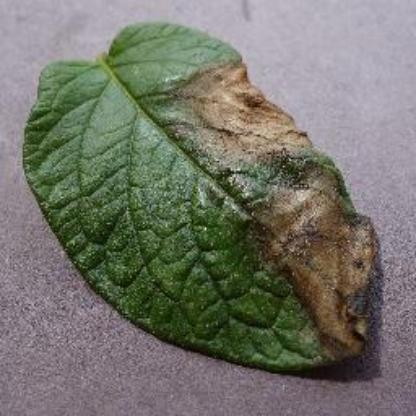Late-Blight: (25, 17, 388, 371)
